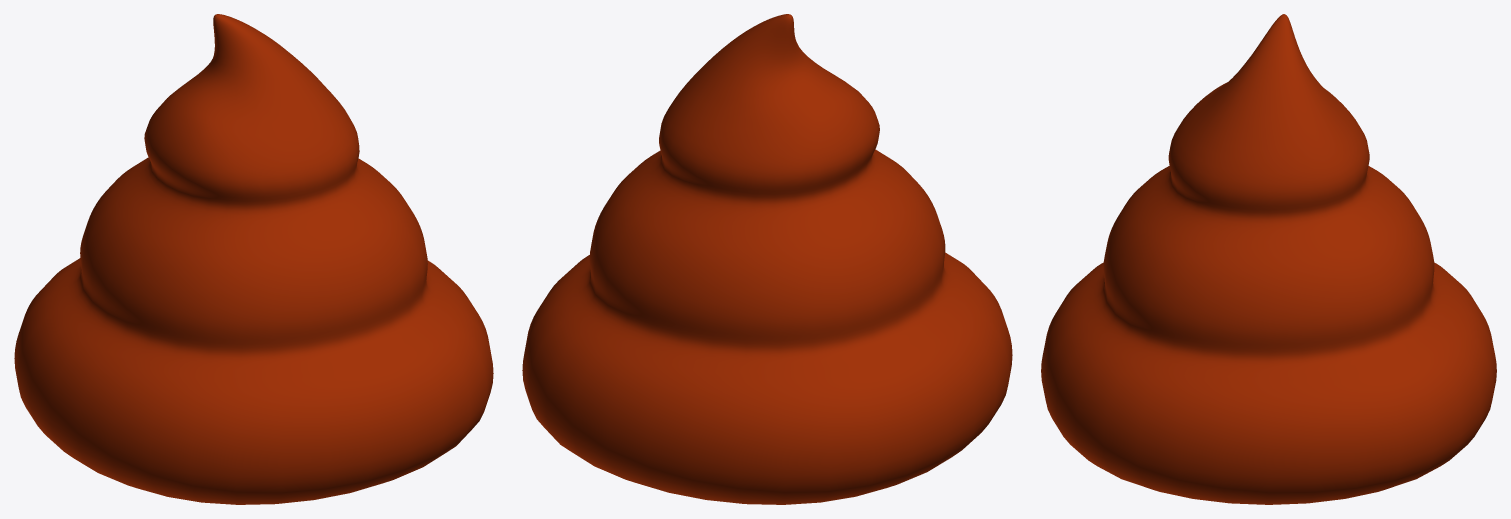
The model's file is Mesh_Poop.FBX.
The picture shows the model from 3 angles, left to right: view 1: azimuth 30°, elevation 25°; view 2: azimuth 150°, elevation 25°; view 3: azimuth 270°, elevation 25°; orthographic projection. The views are drawn at different scales.
Parts seen in each view (by area): view 1: Mesh_Poop; view 2: Mesh_Poop; view 3: Mesh_Poop.
Part boxes in pixels (x1,y1,x2,y2): Mesh_Poop: (14,14,493,504); Mesh_Poop: (522,14,1012,504); Mesh_Poop: (1041,14,1496,504).
Size of what is drawn, in the model's own units: 35.58 by 35.58 by 36.25.
